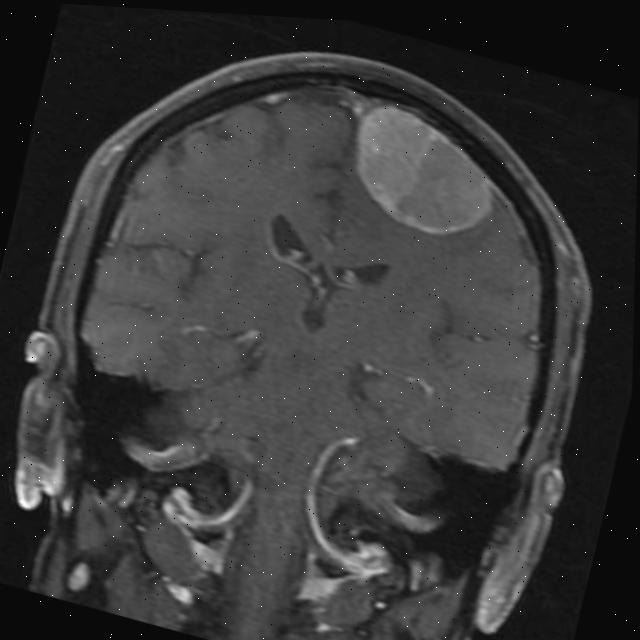Meningioma: (335, 95, 510, 251)
